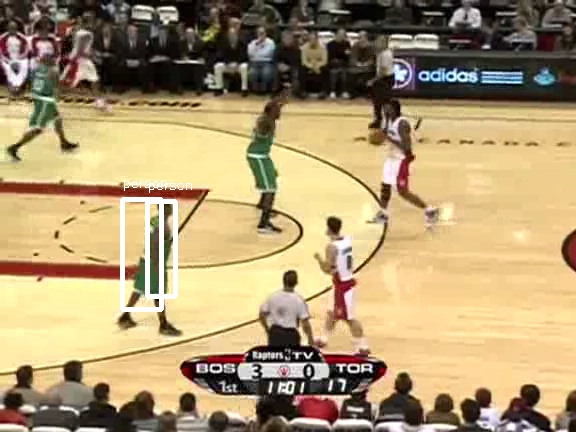person: (141, 219, 175, 300), (140, 219, 174, 300), (142, 219, 176, 300), (141, 218, 175, 299), (141, 220, 175, 301)
target_negative: (240, 36, 392, 320), (36, 250, 437, 329), (60, 355, 375, 399), (333, 275, 418, 363), (294, 24, 487, 37), (479, 355, 494, 395)
